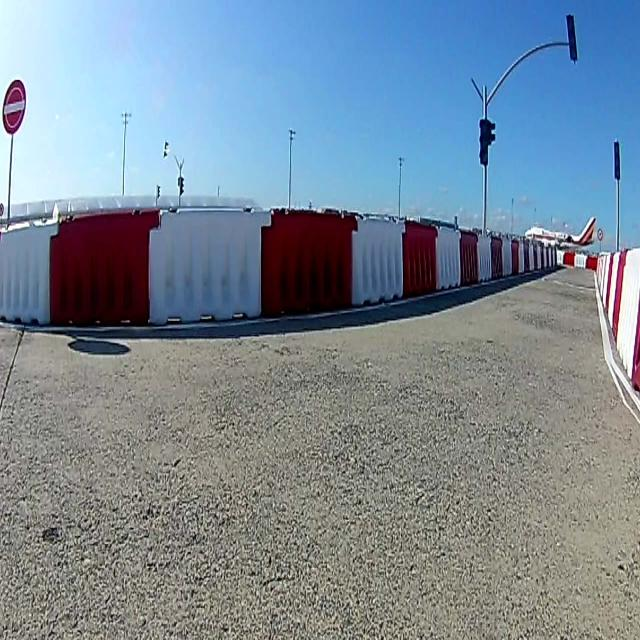girisyok: (2, 81, 25, 130)
